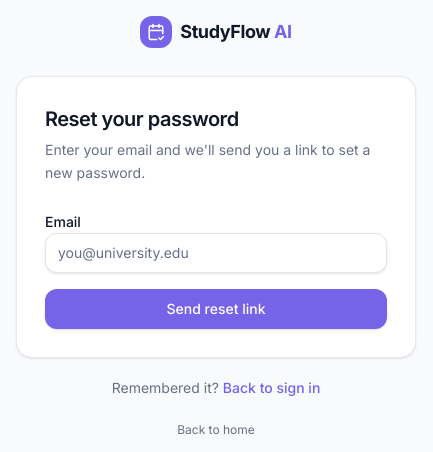
password recovery › scenario 10b: confirms neutrally and delegates to the configured provider
Type "alex@university.edu" into the field labelled "Email" at (216, 253), box [45, 233, 387, 273]
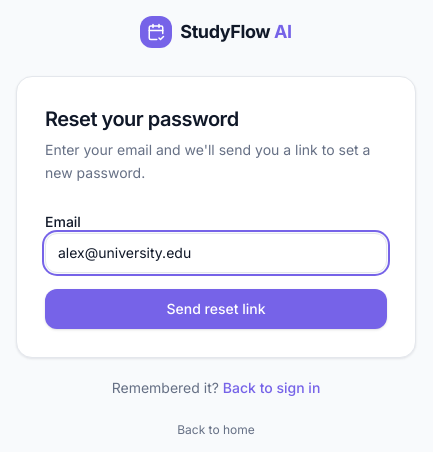
Click the button "Send reset link" at (216, 309), box [45, 289, 387, 329]
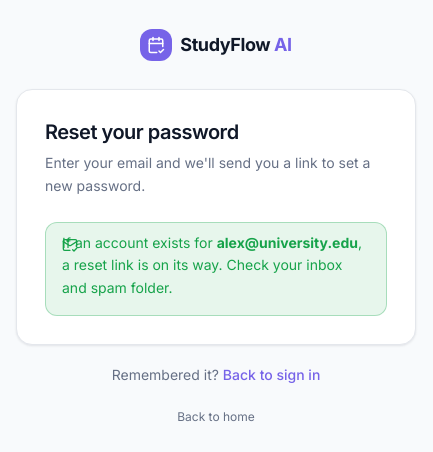
Expected: the text "If an account exists for" is shown, [62, 234, 217, 251]
